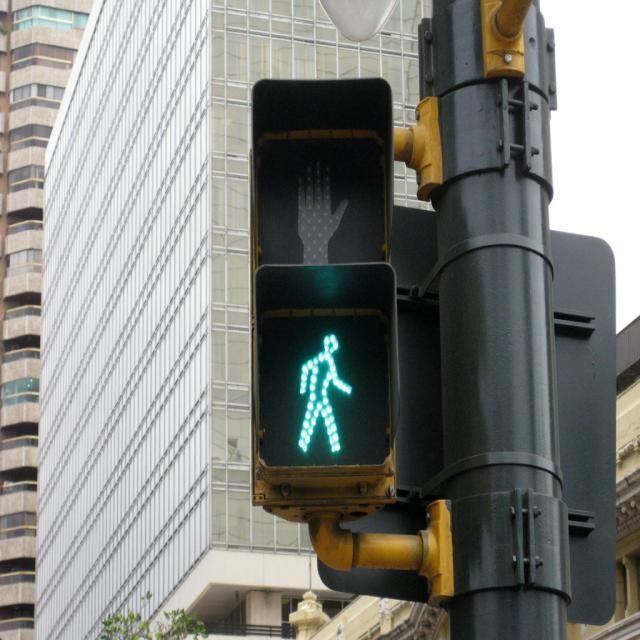traffic light: (250, 78, 402, 525)
